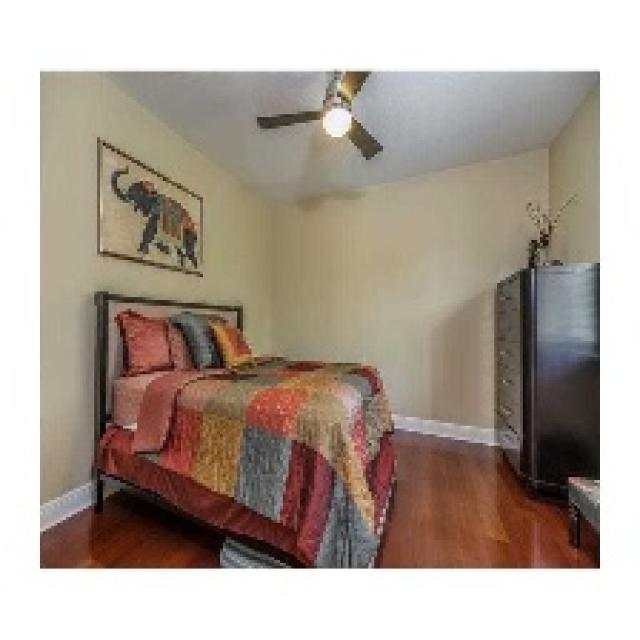Bed: (92, 288, 397, 566)
